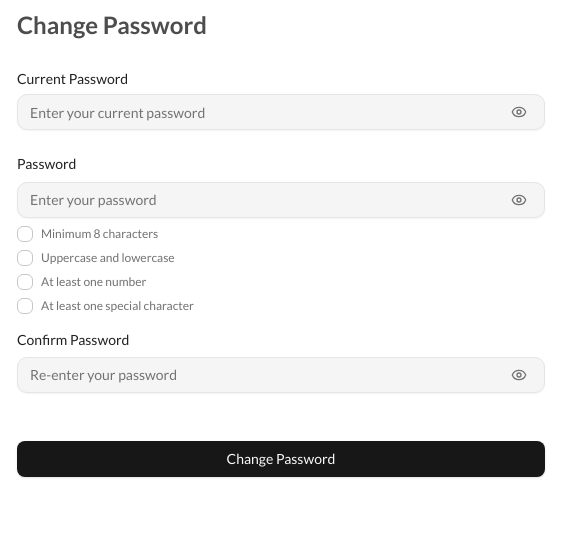
Test: ChangePassword Component › Success Handling › should display success message on successful password change
Type "OldPass1!" into the password field labelled "Current Password" at coordinates (281, 112), box [17,94,545,130]
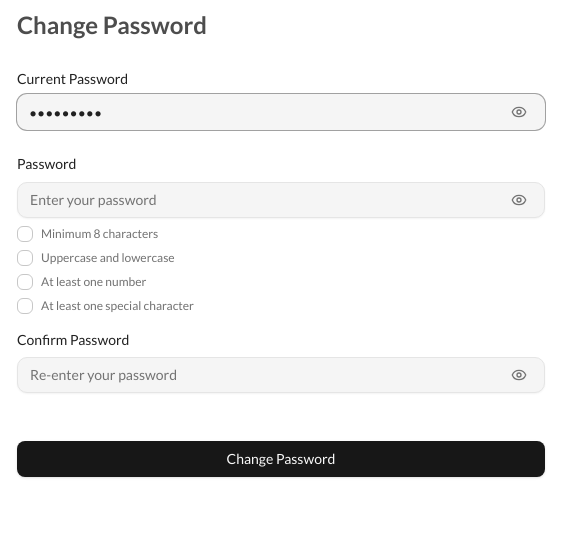
Type "NewPass1!" into the password field labelled "Password" at coordinates (281, 200), box [17,182,545,218]
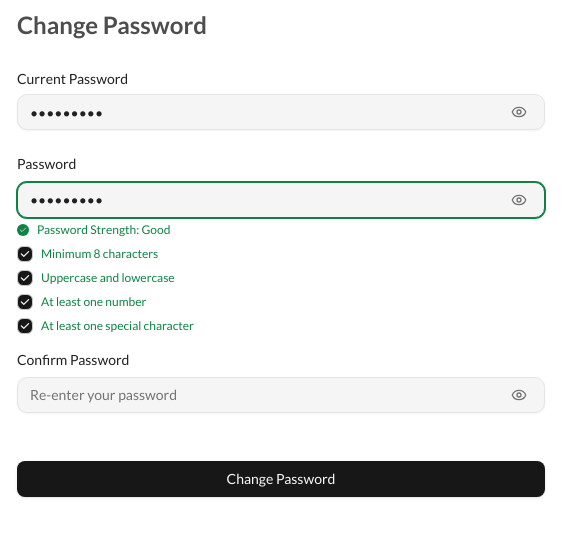
Type "NewPass1!" into the password field labelled "Confirm Password" at coordinates (281, 395), box [17,377,545,413]
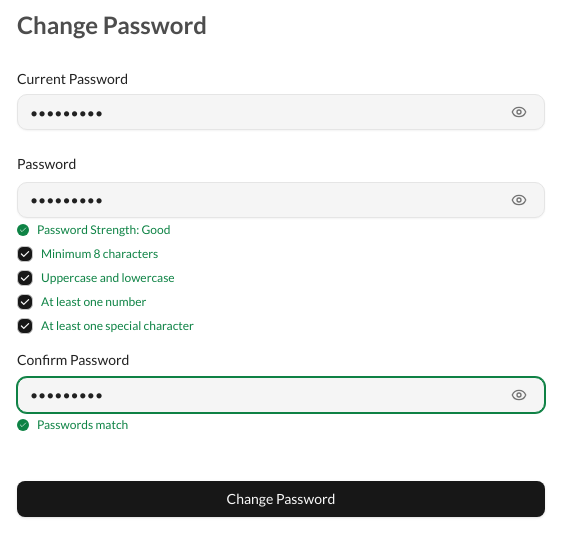
Click the button "Change Password" at coordinates (281, 499), box [17,481,545,517]
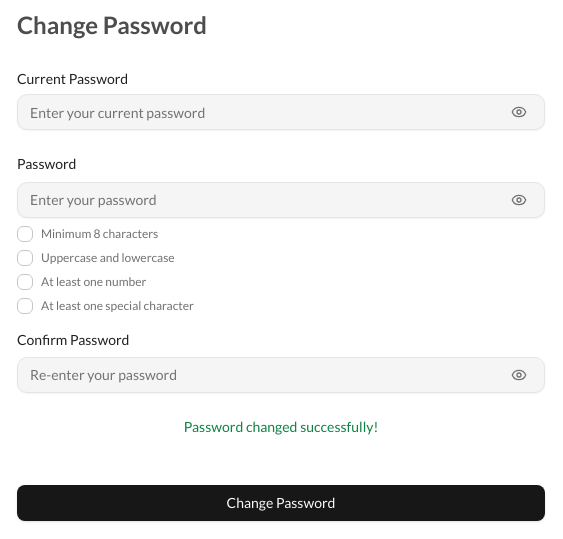
Expected: the text "Password changed successfully!" is shown, [184,418,378,435]
